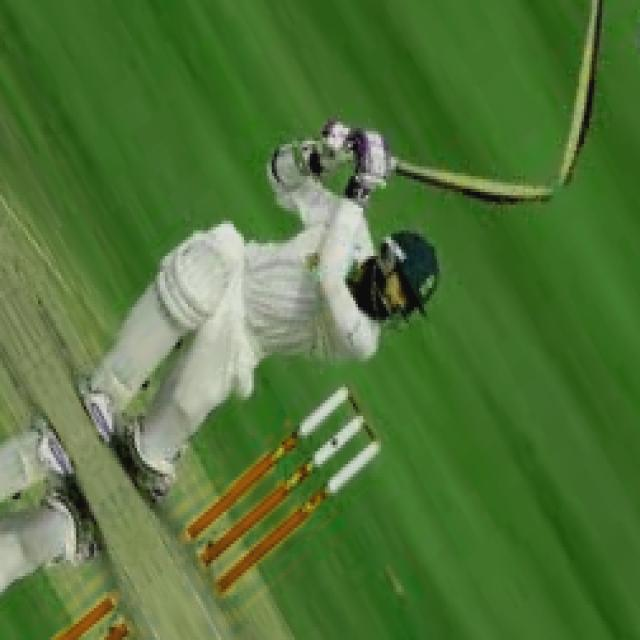toe: (514, 178, 558, 212)
